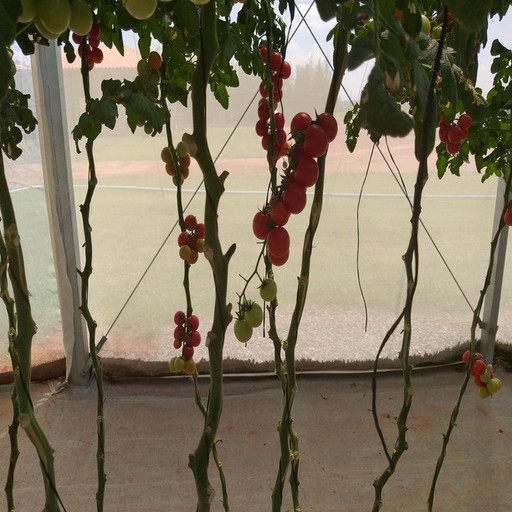green tomato bunch: (9, 1, 93, 44), (138, 53, 163, 99)
mixed tomato bunch: (380, 9, 451, 93), (464, 349, 500, 398), (179, 214, 206, 267), (163, 141, 190, 187)
red tomato bunch: (245, 112, 339, 269), (255, 45, 291, 165), (436, 112, 475, 155), (171, 311, 200, 367), (71, 23, 104, 70)
